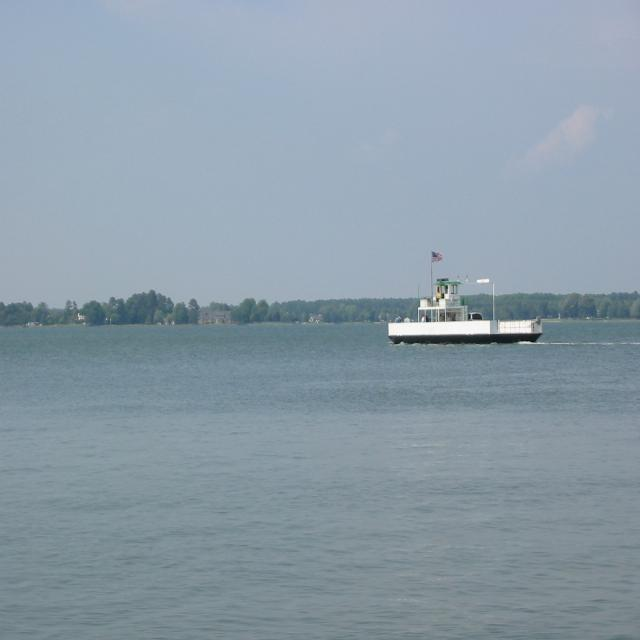passenger ship: (386, 276, 540, 344)
